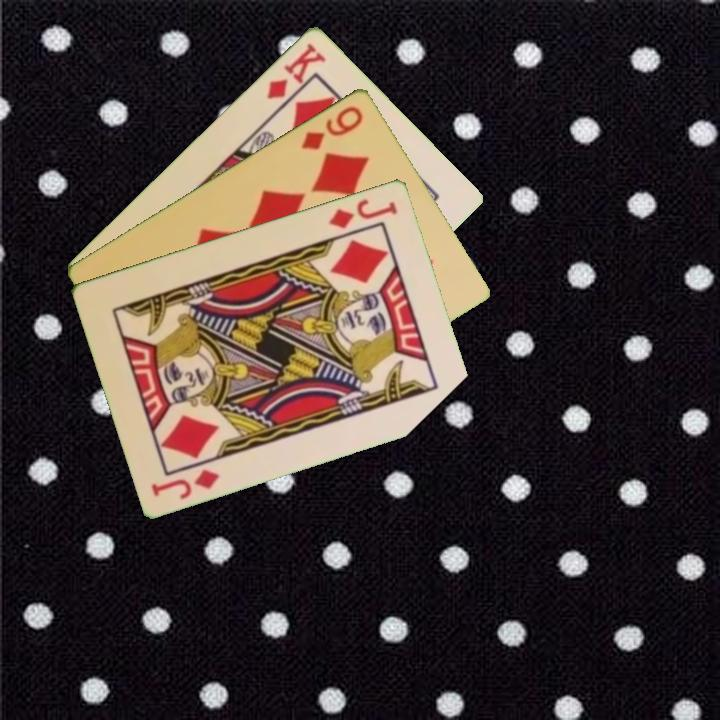9d: (297, 101, 366, 153)
Jd: (148, 464, 223, 502), (325, 194, 401, 231)
Kd: (263, 38, 329, 102)
